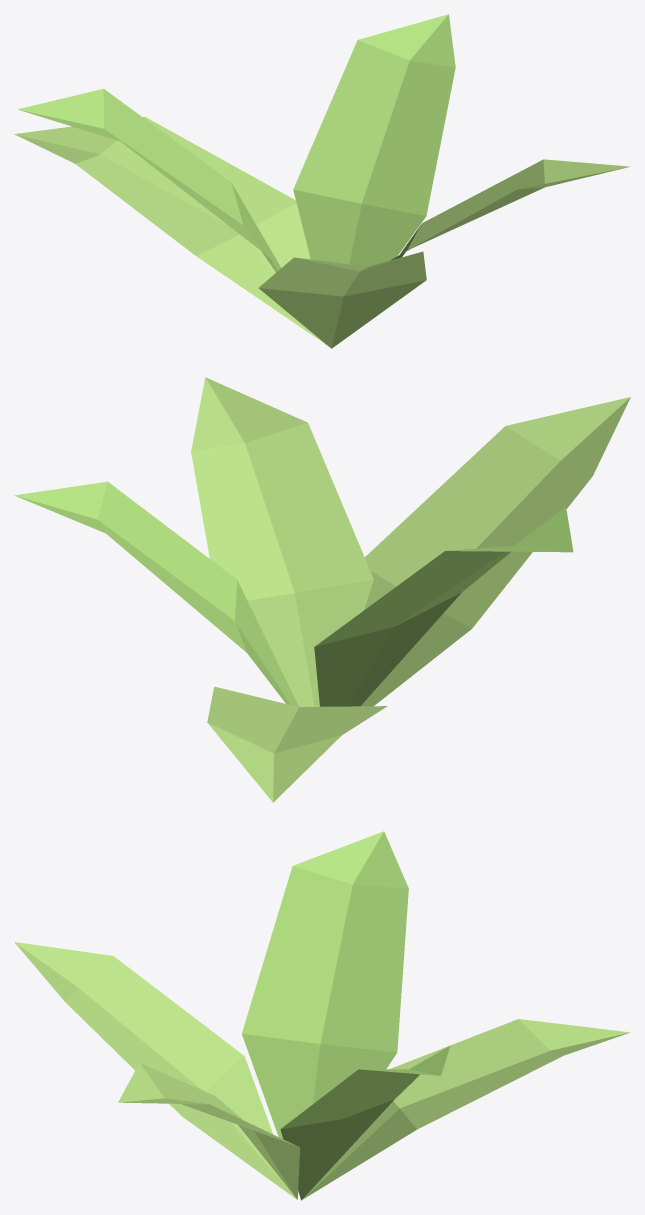
File: Plant_k_OneS_05.fbx
3 renders of one model, top to bottom at view 1: azimuth 30°, elevation 25°; view 2: azimuth 150°, elevation 25°; view 3: azimuth 270°, elevation 25°, orthographic. The views are drawn at different scales.
Visible parts, largest first — view 1: Plant_k_OneS_05; view 2: Plant_k_OneS_05; view 3: Plant_k_OneS_05.
Boxes of the visible parts, bbox=[...] form: Plant_k_OneS_05: bbox=[14, 14, 629, 348]; Plant_k_OneS_05: bbox=[14, 377, 630, 802]; Plant_k_OneS_05: bbox=[14, 831, 630, 1200].
Bounding box in the file's own units: 0.377 × 0.2074 × 0.4663.
